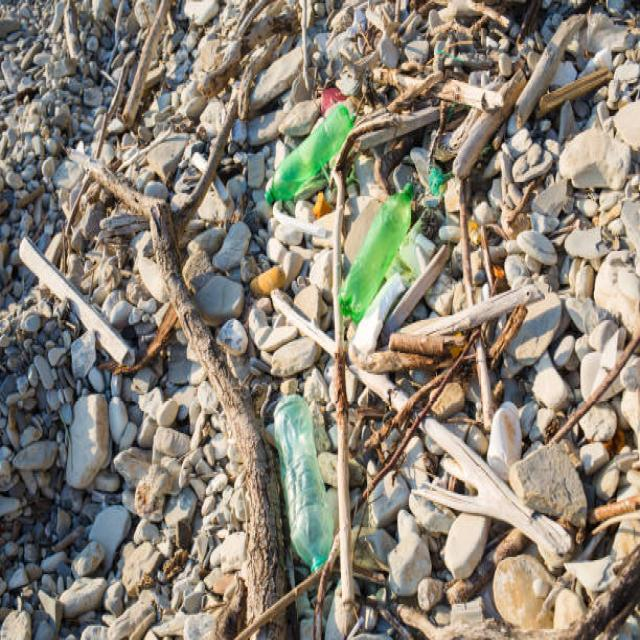plastic: (268, 92, 458, 317)
